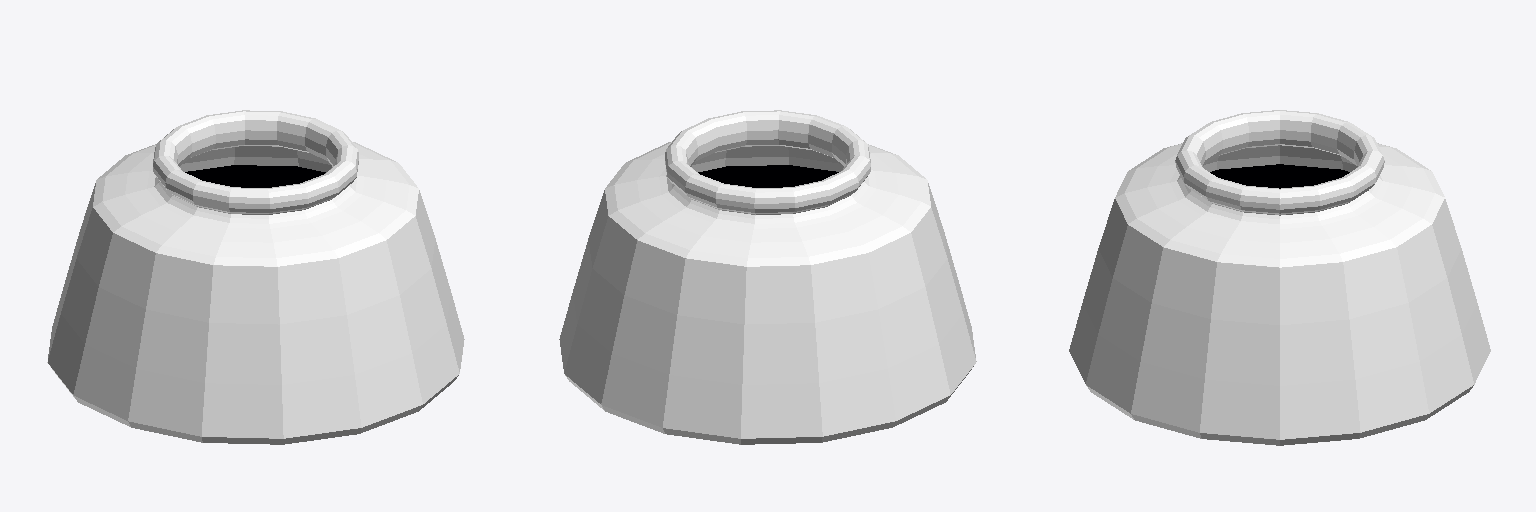
File: ink_bottle.obj
3 renders of one model, left to right at view 1: azimuth 30°, elevation 25°; view 2: azimuth 150°, elevation 25°; view 3: azimuth 270°, elevation 25°, orthographic.
Parts seen in each view (by area): view 1: obj1, obj3; view 2: obj1, obj3; view 3: obj1, obj3.
Boxes of the visible parts, <box> form: obj1: <box>47,110,464,444</box>; obj3: <box>185,165,325,187</box>; obj1: <box>559,110,976,444</box>; obj3: <box>698,165,838,187</box>; obj1: <box>1069,110,1490,445</box>; obj3: <box>1210,164,1349,188</box>.
Size of the model in its own units: 0.8564 by 0.4732 by 0.8564.